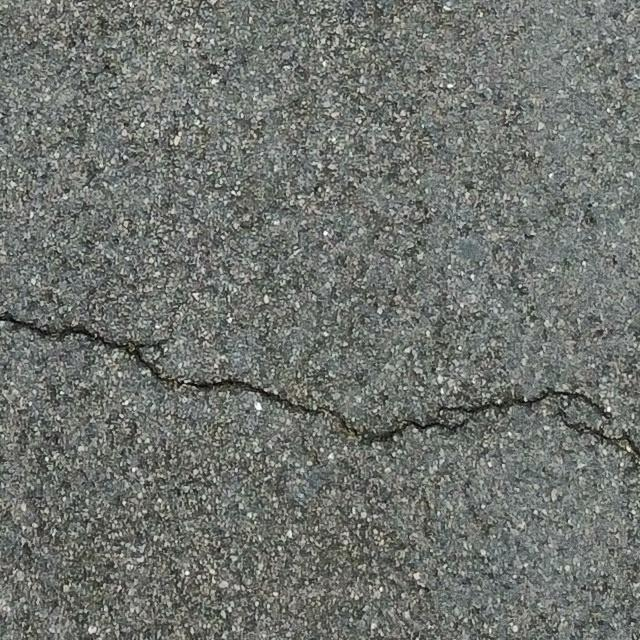TransverseCrack: (1, 310, 640, 453)
